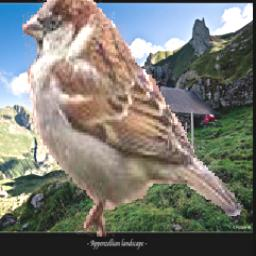Sparrow: (22, 0, 243, 238)
